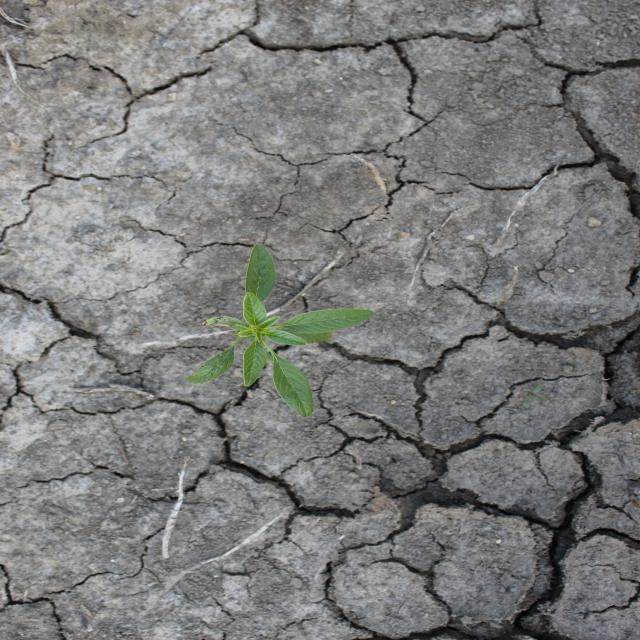Waterhemp: (184, 242, 378, 419)
